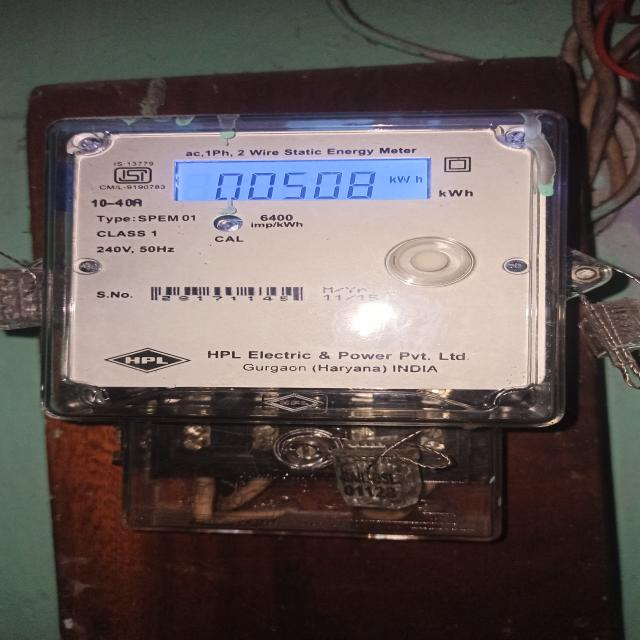display: (170, 157, 438, 205)
